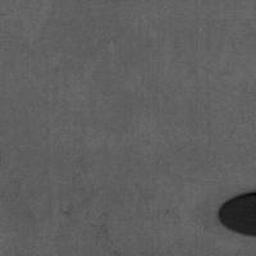Punching: (218, 191, 256, 237)
